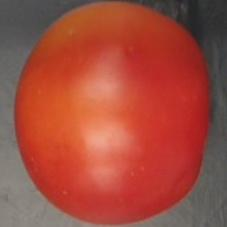unripe: (10, 0, 215, 224)
